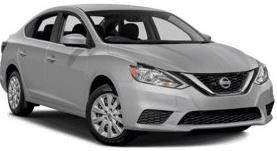Cars: (1, 5, 275, 145)
